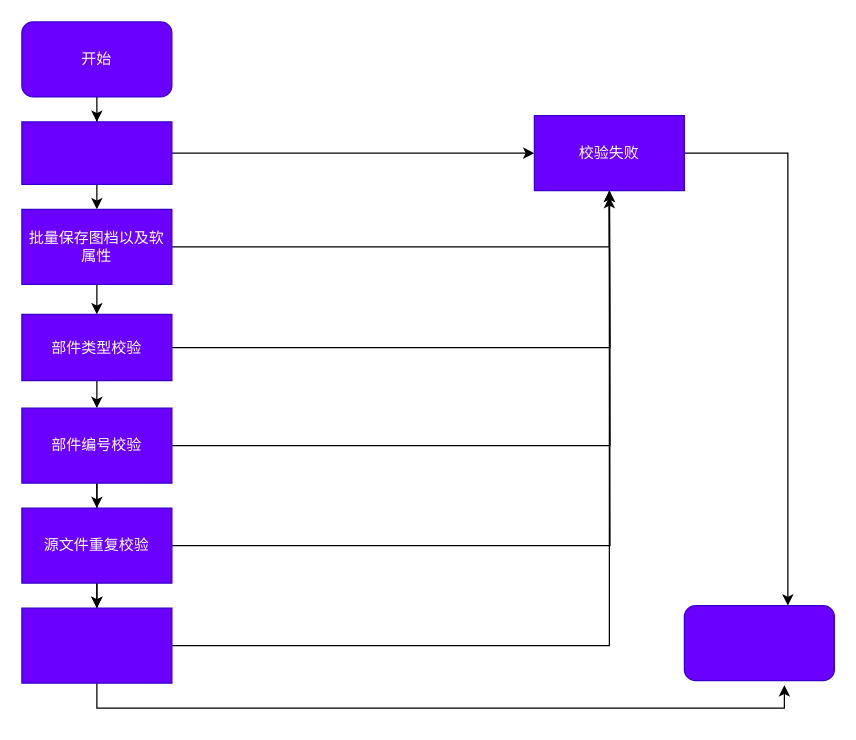
Some shapes in this 856 by 740 pixel diagram are drawn without their labels. The shapes that lost their labels are listed below. From the top down, each one's centre as x and y in pixels, then its label:
At [96,152]: "批量保存图档相关部件以及软属性".
At [96,645]: "编号重复校验".
At [758,642]: "结束".
